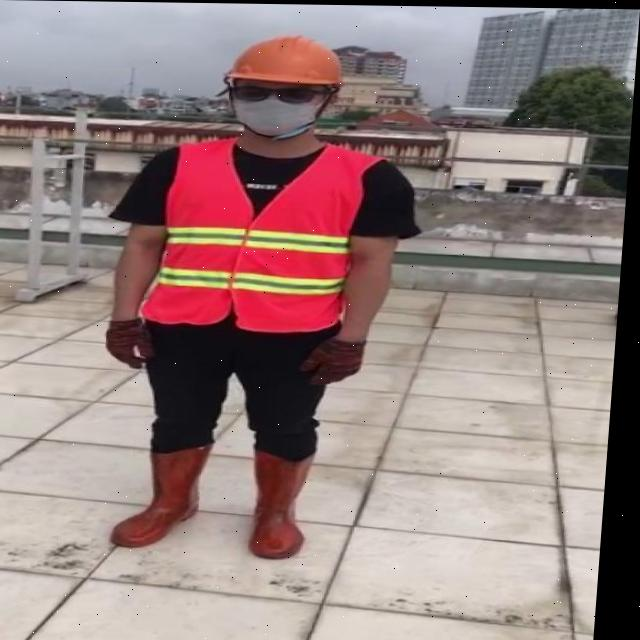Gloves: (305, 334, 372, 385), (110, 316, 165, 368)
Helmet: (226, 32, 348, 88)
Safety-Boot: (119, 437, 223, 548), (256, 446, 324, 558)
Safety-Vest: (142, 135, 391, 333)
